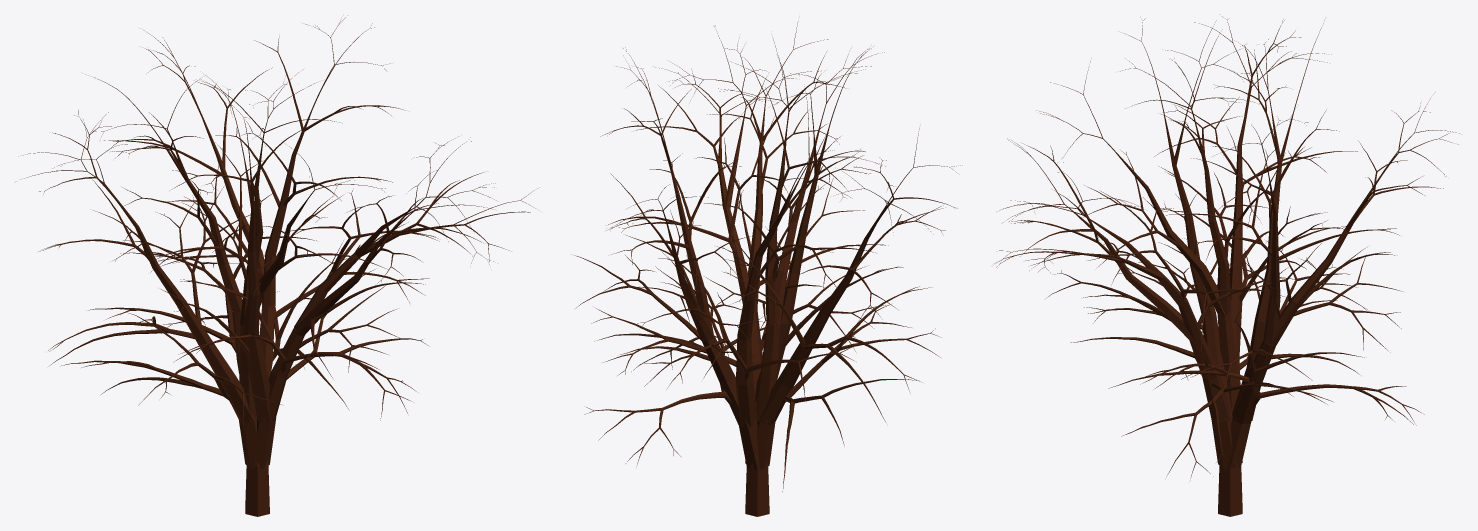
The model's file is tree.glb.
3 views of the same model, side by side, from view 1: azimuth 30°, elevation 25°; view 2: azimuth 150°, elevation 25°; view 3: azimuth 270°, elevation 25° (orthographic).
Parts seen in each view (by area): view 1: tree; view 2: tree; view 3: tree.
Boxes of the visible parts, bbox=[...] form: tree: bbox=[18, 17, 537, 516]; tree: bbox=[574, 21, 962, 516]; tree: bbox=[995, 16, 1459, 516].
Size of the model in its own units: 16.01 by 17.36 by 16.13.
